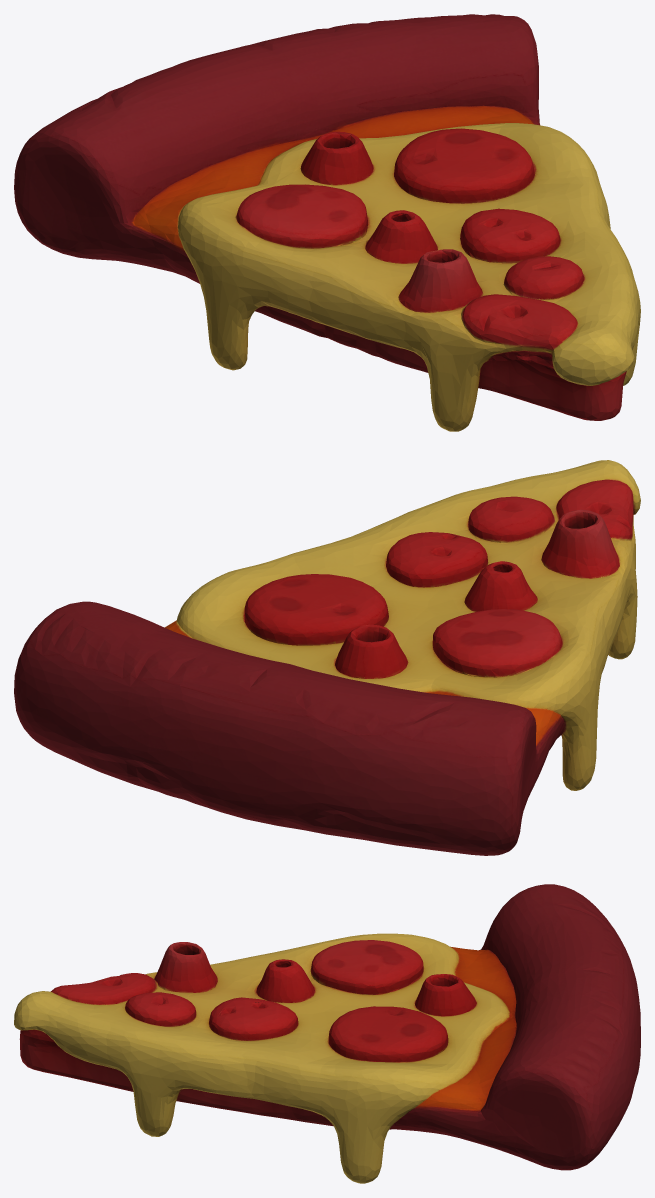
Rendered from redpizza.glb.
The picture shows the model from 3 angles, top to bottom: view 1: azimuth 30°, elevation 25°; view 2: azimuth 150°, elevation 25°; view 3: azimuth 270°, elevation 25°; orthographic projection. The views are drawn at different scales.
Visible parts, largest first — view 1: world; view 2: world; view 3: world.
Boxes of the visible parts, x1,y1,x2,y2 form: world: (14,14,640,431); world: (14,460,640,855); world: (14,884,640,1183).
Bounding box in the file's own units: 0.7604 × 0.2543 × 1.
Materials: 1 (1 with a texture image).
